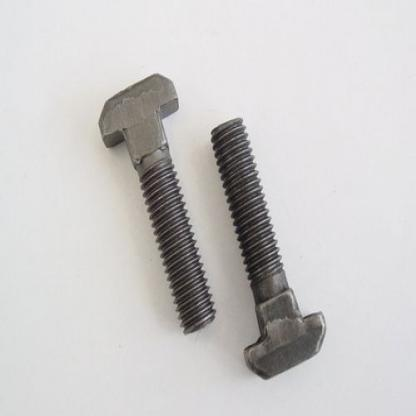FOD: (96, 73, 218, 335), (210, 116, 326, 379)
